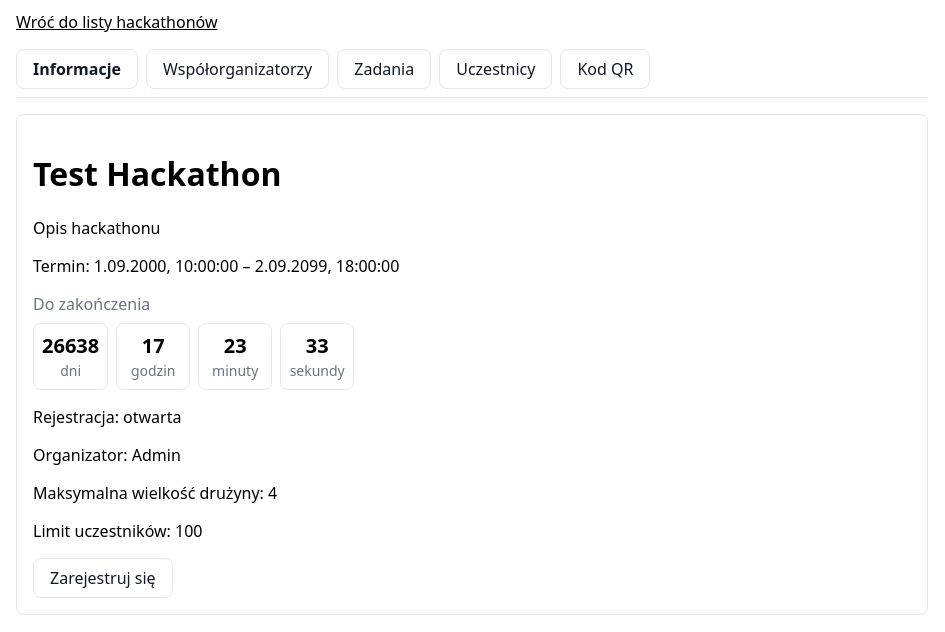
Test: HackathonDetailsPage › shows the QR generator to a manager while the hackathon is in progress
The image size is (945, 632).
Click the tab "Kod QR": (605, 69) left=560, top=49, right=650, bottom=89
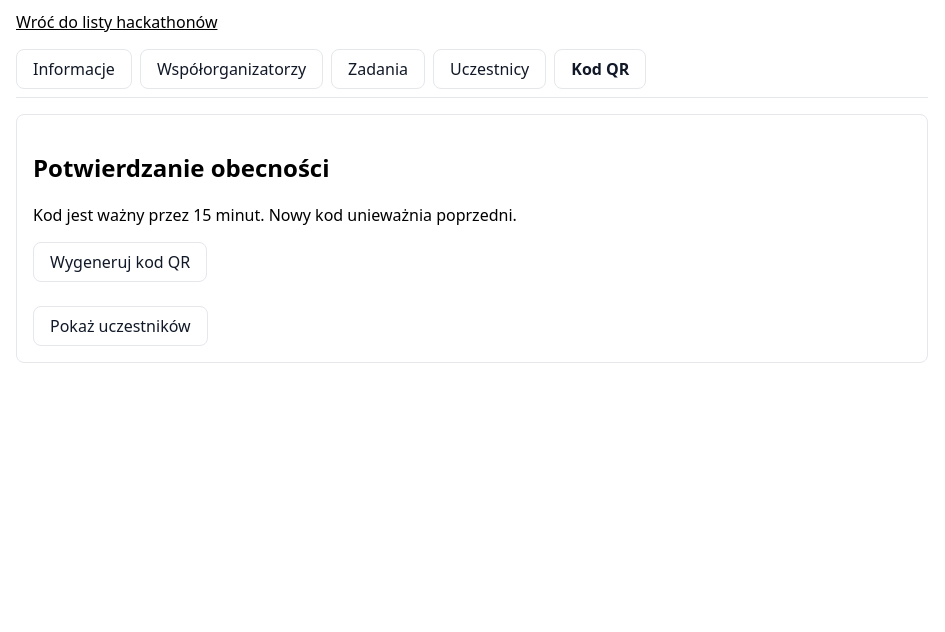
Check: the button "Wygeneruj kod QR" is shown, box left=33, top=242, right=207, bottom=282
Check: the button "Pokaż uczestników" is shown, box left=33, top=306, right=208, bottom=346
